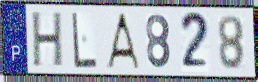2: (178, 10, 213, 75)
8: (216, 15, 247, 71), (144, 13, 172, 70)
A: (104, 12, 142, 71)
H: (32, 10, 64, 70)
L: (70, 10, 99, 70)
